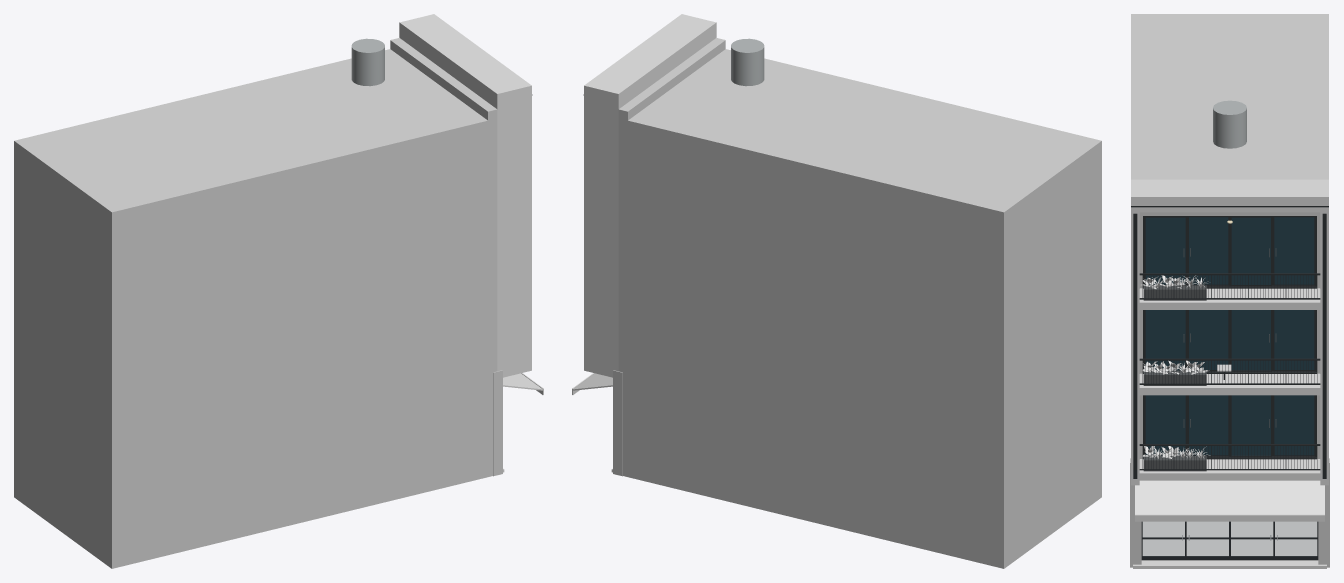
The model's file is OW_Mau_NhaPho_7_0_1.fbx.
3 views of the same model, side by side, from view 1: azimuth 30°, elevation 25°; view 2: azimuth 150°, elevation 25°; view 3: azimuth 270°, elevation 25° (orthographic).
Visible parts, largest first — view 1: OW_NhaPho_9034; view 2: OW_NhaPho_9034; view 3: OW_NhaPho_9034, OW_MatTienKinh.
Part boxes in pixels (left/top/right/bottom): OW_NhaPho_9034: left=14, top=14, right=543, bottom=568; OW_NhaPho_9034: left=572, top=14, right=1101, bottom=568; OW_NhaPho_9034: left=1130, top=14, right=1329, bottom=568; OW_MatTienKinh: left=1141, top=521, right=1318, bottom=560.
Bounding box in the file's own units: 17.77 × 16.15 × 7.
